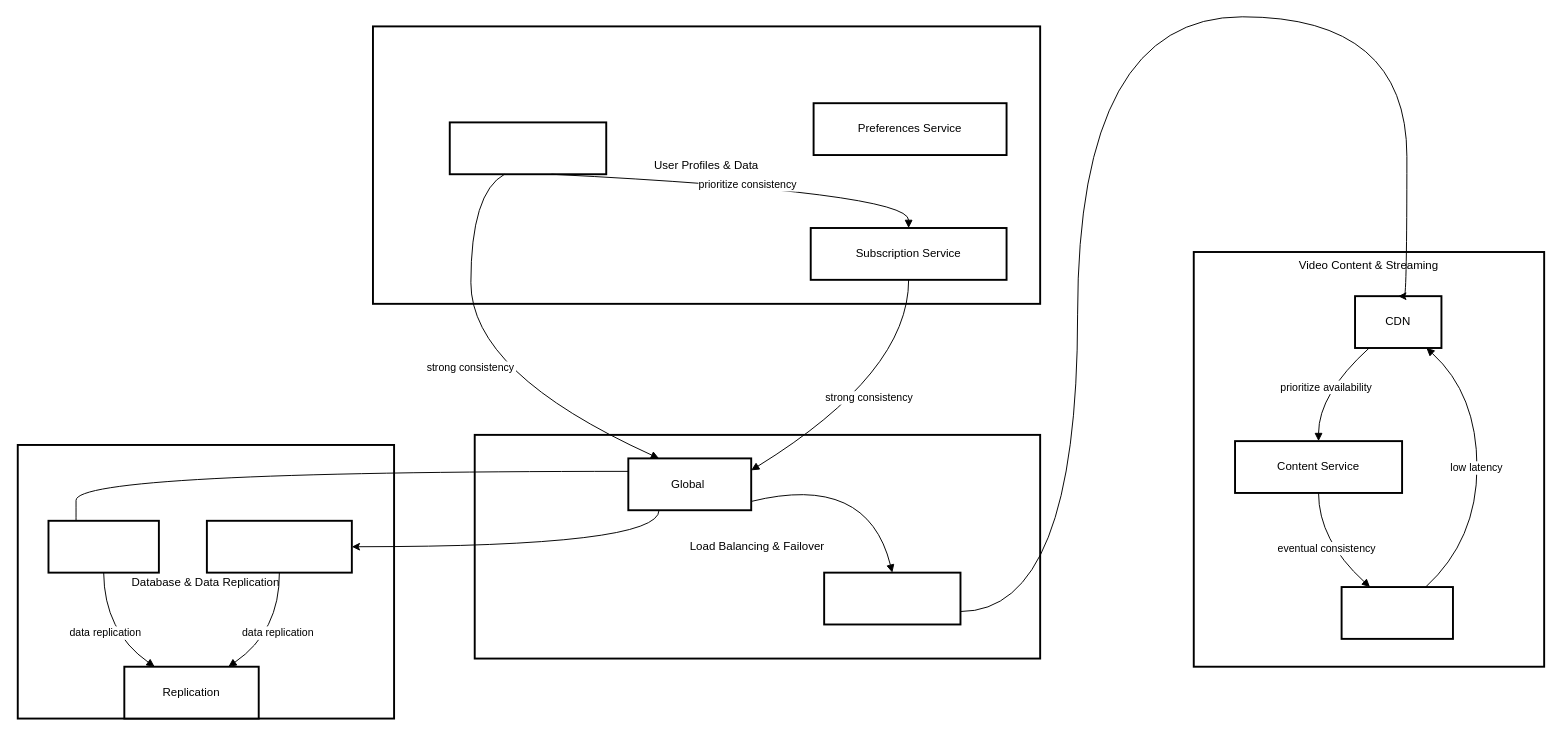
Some shapes in this 1561 by 736 pixel diagram are drawn without their labels. The centre of each missing label's shape, as x and y in pixels:
Caching: point (1396, 612)
Metadata DB: point (278, 546)
Profile Service: point (527, 148)
Regional: point (892, 598)
User DB: point (103, 546)
